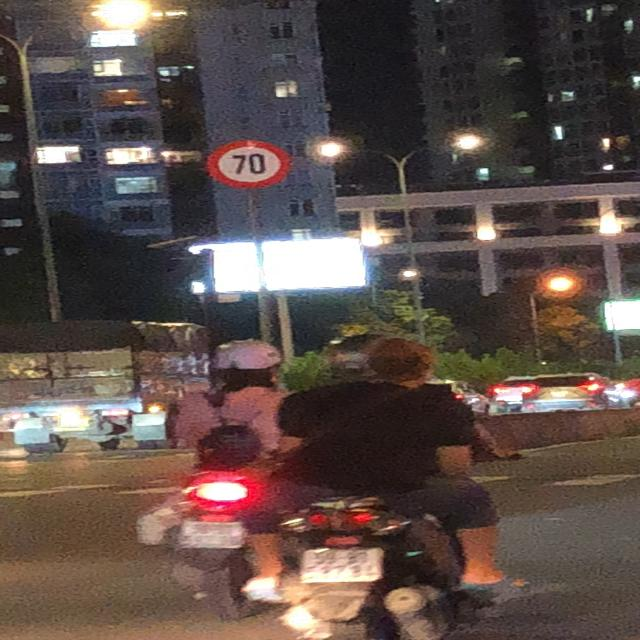Bien bao toc do toi da cho phep: (196, 135, 298, 189)
